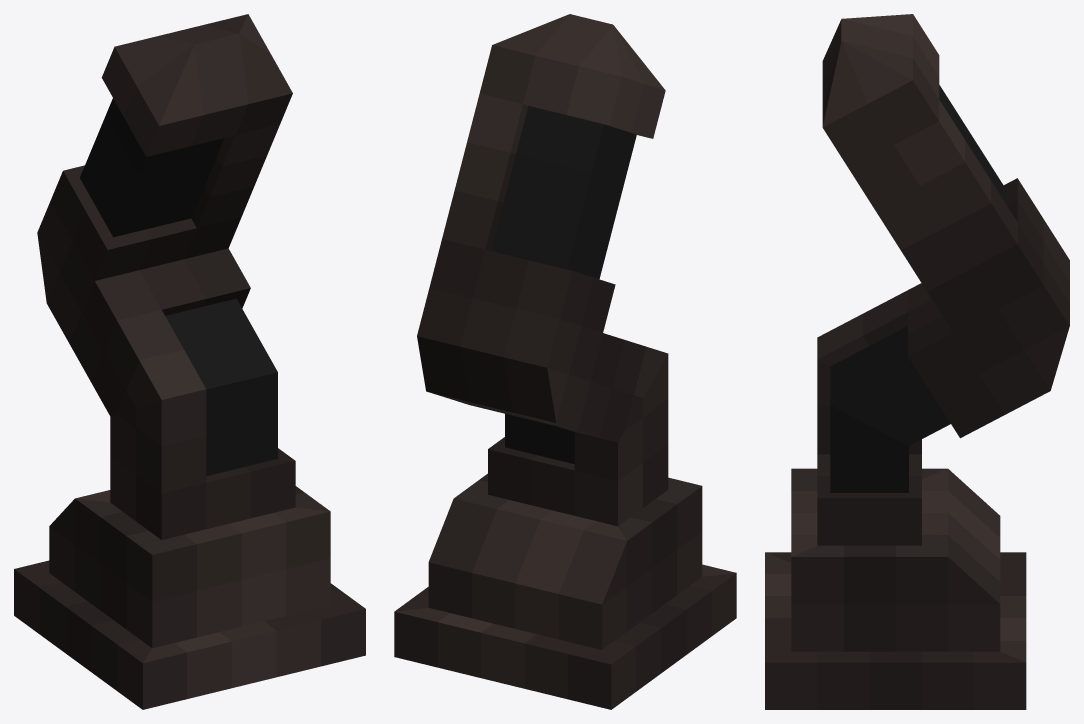
File: leg_basic_l.obj
3 views of the same model, side by side, from view 1: azimuth 30°, elevation 25°; view 2: azimuth 150°, elevation 25°; view 3: azimuth 270°, elevation 25° (orthographic). The views are drawn at different scales.
Visible parts, largest first — view 1: LEG_LEFT_BASIC_Cube.013; view 2: LEG_LEFT_BASIC_Cube.013; view 3: LEG_LEFT_BASIC_Cube.013.
Boxes of the visible parts, x1,y1,x2,y2 form: LEG_LEFT_BASIC_Cube.013: (14,14,365,709); LEG_LEFT_BASIC_Cube.013: (394,14,736,709); LEG_LEFT_BASIC_Cube.013: (765,14,1069,709).
Size of the model in its own units: 0.3125 by 0.8246 by 0.3644.
